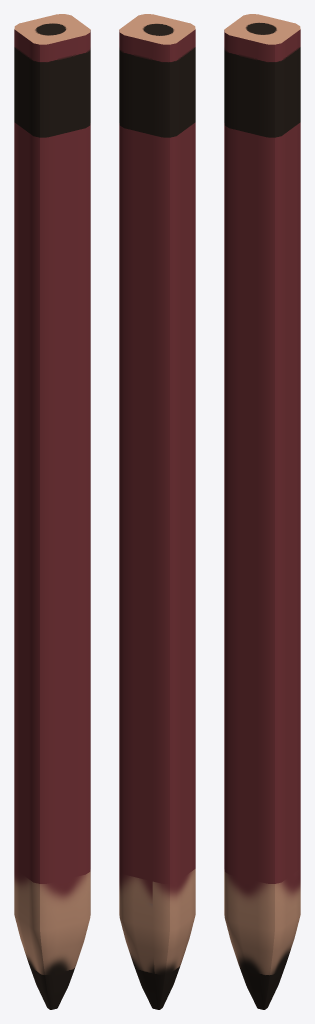
Rendered from Asset_11_Pencil.fbx.
3 renders of one model, left to right at view 1: azimuth 30°, elevation 25°; view 2: azimuth 150°, elevation 25°; view 3: azimuth 330°, elevation 25°, orthographic.
Parts seen in each view (by area): view 1: SK_11_Pencil; view 2: SK_11_Pencil; view 3: SK_11_Pencil.
Boxes of the visible parts, box(x1,y1,x2,y2) form: SK_11_Pencil: box(14, 14, 90, 1009); SK_11_Pencil: box(119, 14, 195, 1009); SK_11_Pencil: box(224, 14, 300, 1009).
Size of the model in its own units: 0.0785 by 1.29 by 0.0683.
